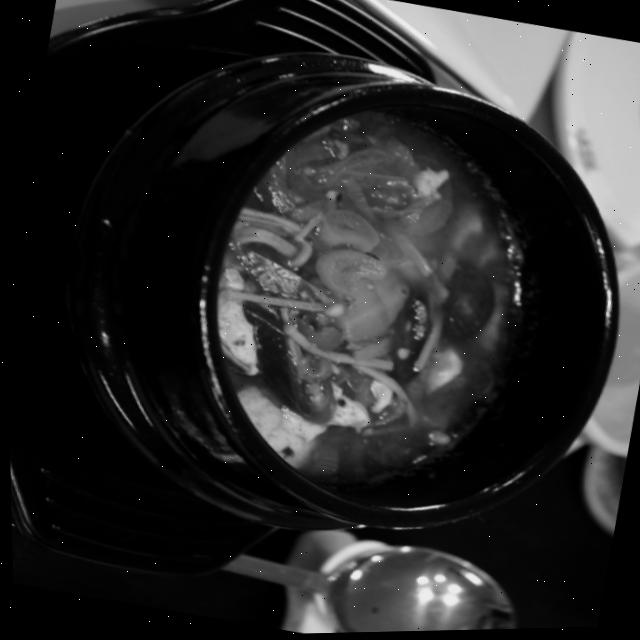汤锅炖物: (51, 0, 640, 599)
